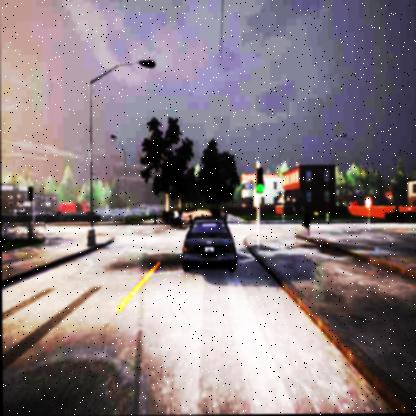vehicle: (180, 219, 238, 275)
